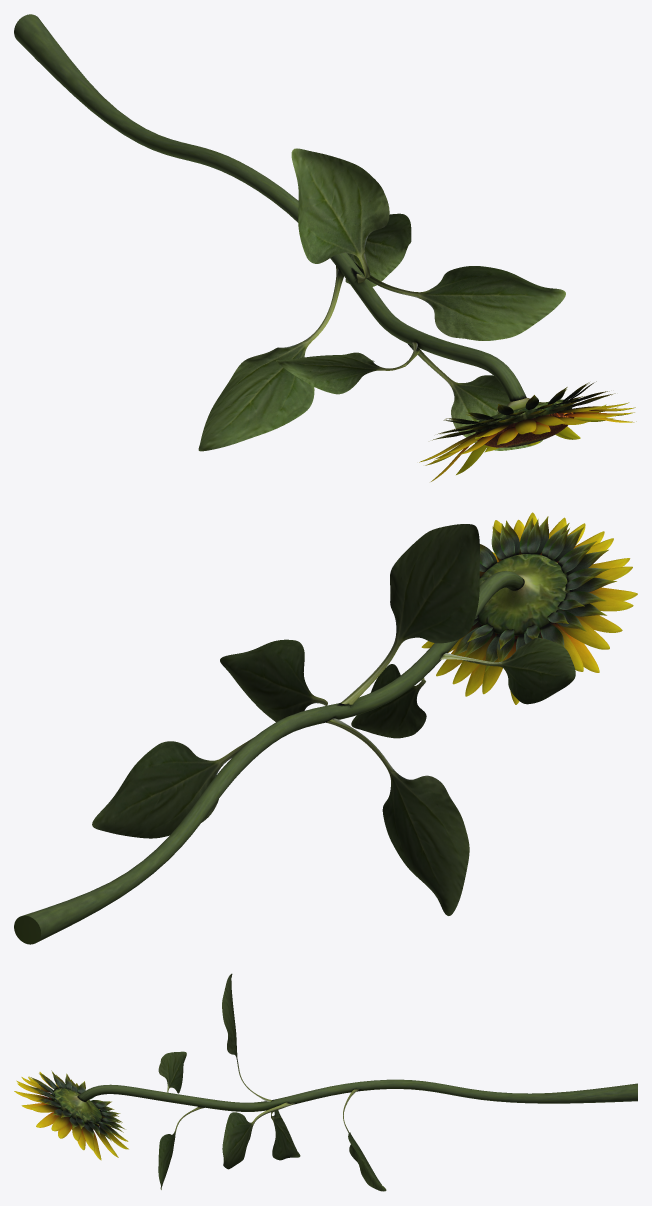
File: sunflower.glb
The picture shows the model from 3 angles, top to bottom: view 1: azimuth 30°, elevation 25°; view 2: azimuth 150°, elevation 25°; view 3: azimuth 270°, elevation 25°; orthographic projection. The views are drawn at different scales.
Visible parts, largest first — view 1: 10455_Sunflower_v1_SG; view 2: 10455_Sunflower_v1_SG; view 3: 10455_Sunflower_v1_SG.
Part boxes in pixels (x1,y1,x2,y2): 10455_Sunflower_v1_SG: (14, 14, 636, 481); 10455_Sunflower_v1_SG: (14, 512, 637, 944); 10455_Sunflower_v1_SG: (14, 973, 637, 1191).
Size of the model in its own units: 55.32 by 55.51 by 163.
1 material, 1 textured.
